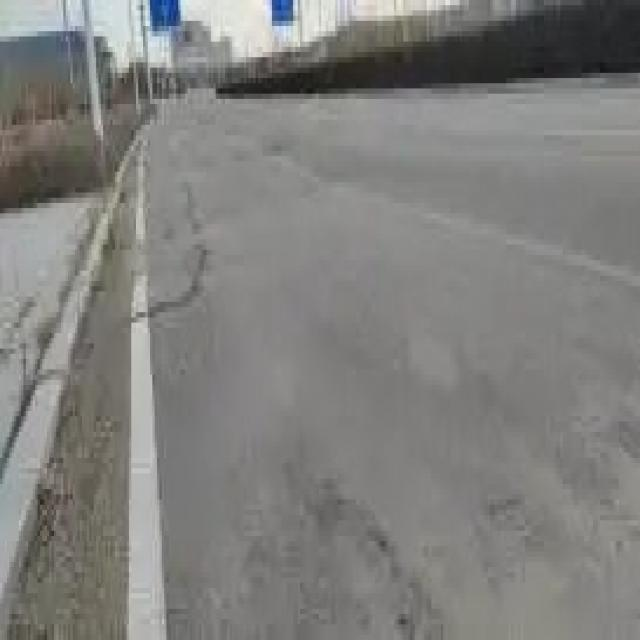Pothole: (127, 172, 197, 328)
